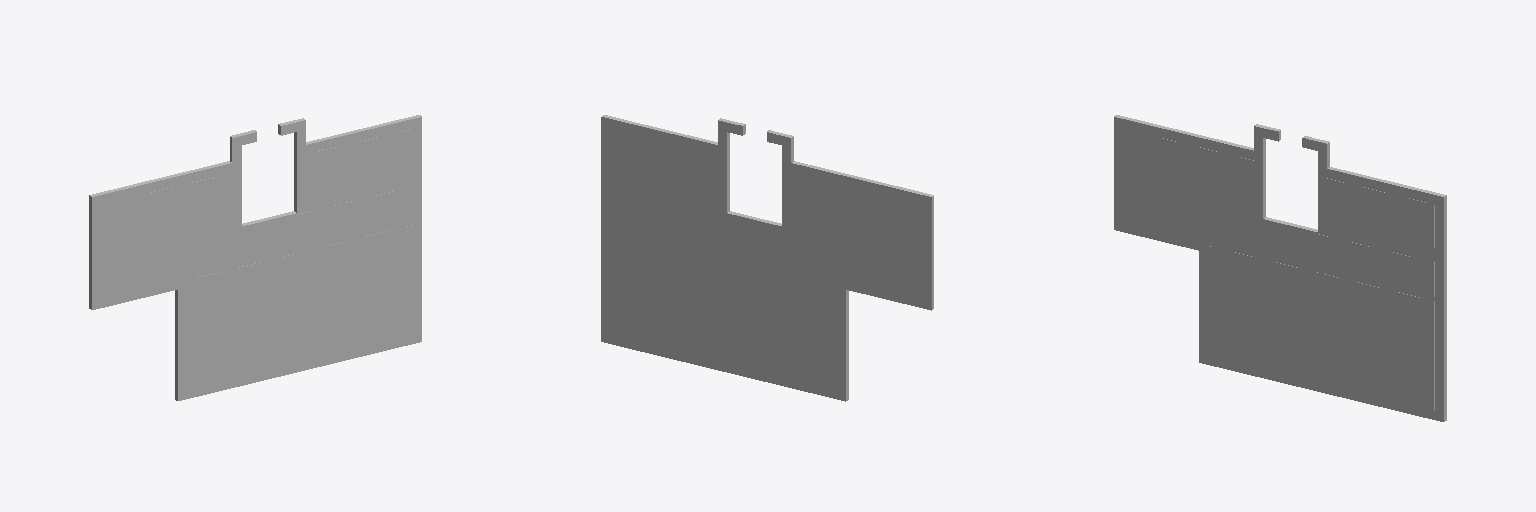
File: Bodenplatte_OG.obj
The picture shows the model from 3 angles: view 1: azimuth 30°, elevation 25°; view 2: azimuth 150°, elevation 25°; view 3: azimuth 330°, elevation 25°; orthographic projection.
Bounding box in the file's own units: 13898 × 10068 × 210.